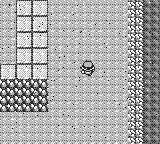captura: (0, 0, 159, 144)
main: (81, 61, 95, 76)
no-caminable: (1, 0, 48, 81), (128, 0, 143, 143), (1, 80, 48, 112)
